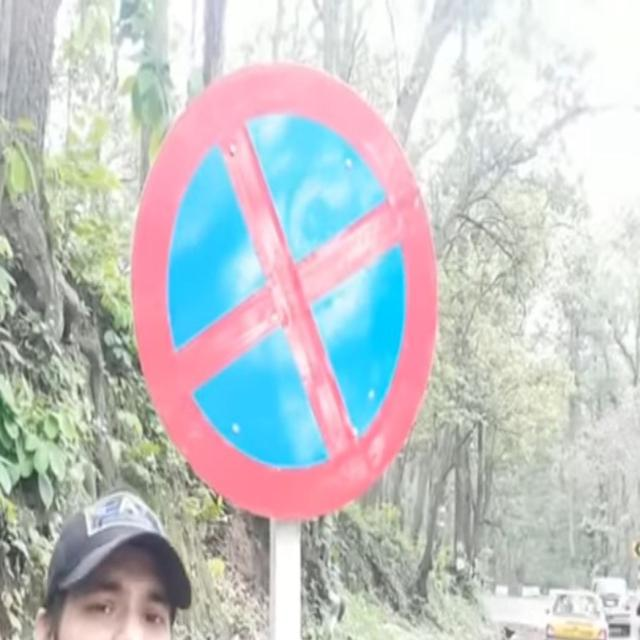no_stopping: (129, 59, 445, 519)
